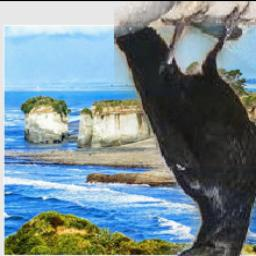Crow: (115, 2, 256, 256)
